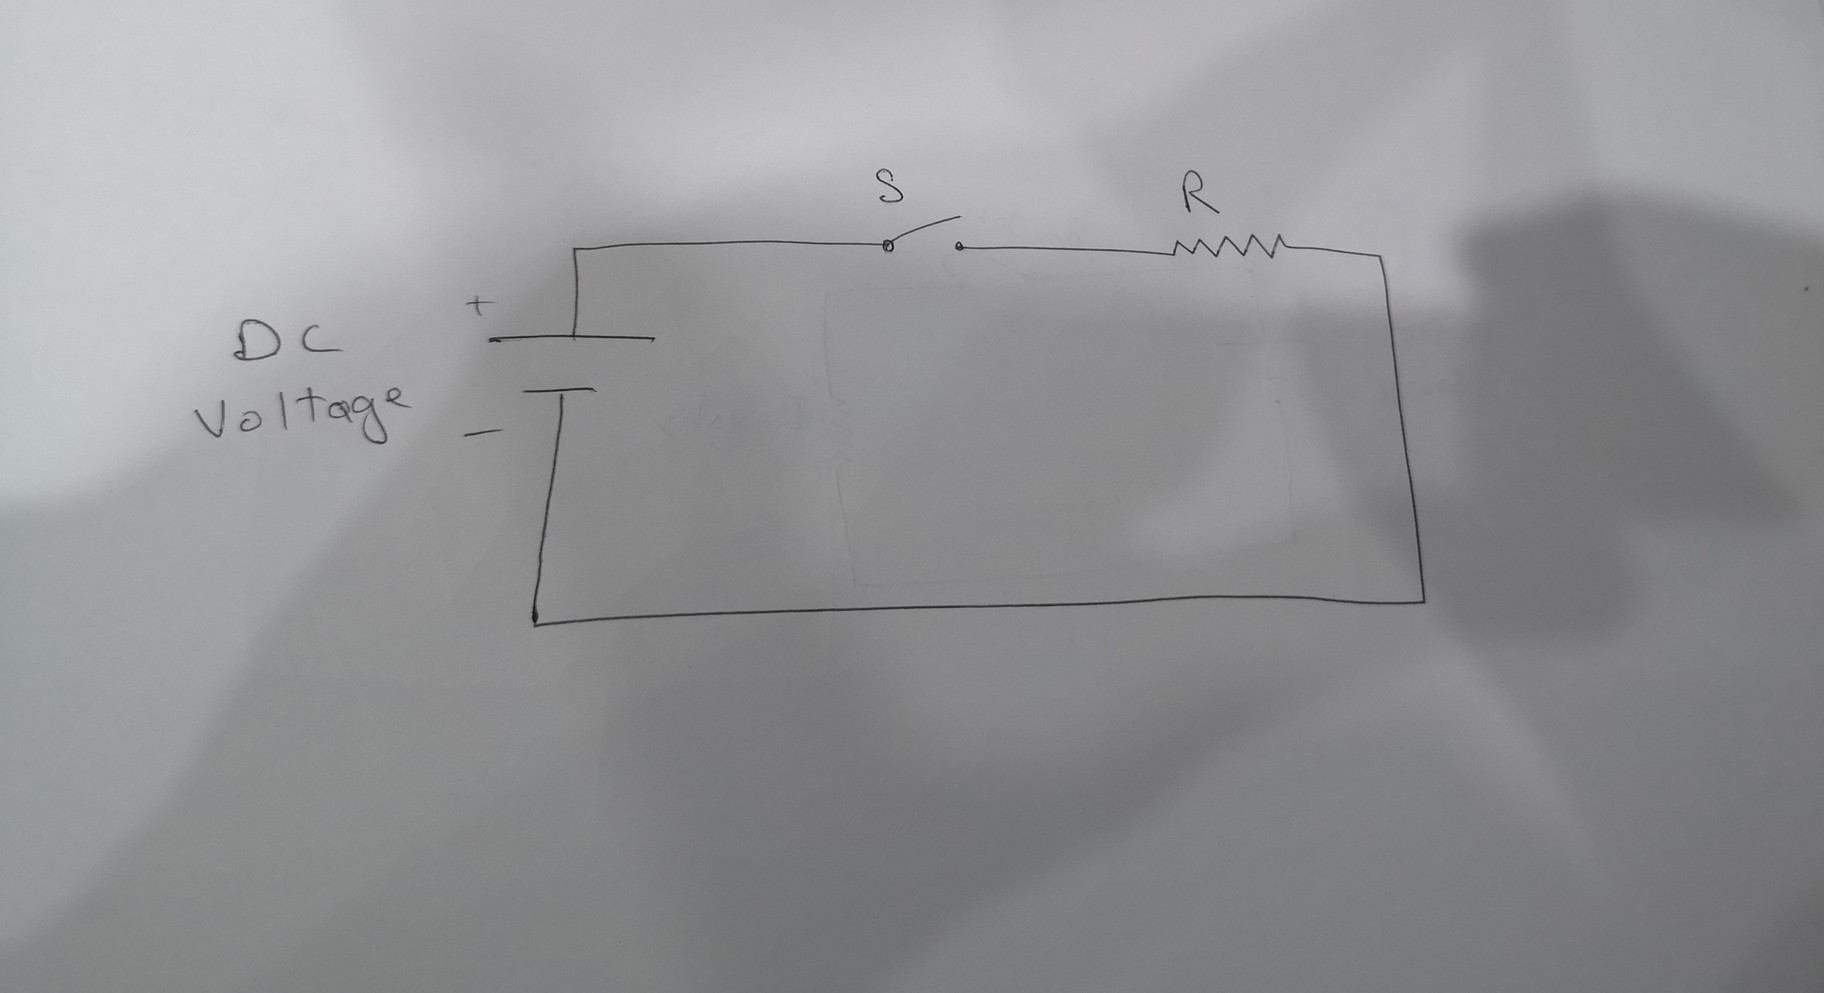junction: (1363, 243, 1392, 275), (564, 238, 586, 263), (524, 609, 545, 633), (1413, 591, 1433, 613)
resistor: (1163, 229, 1293, 265)
switch: (875, 205, 976, 259)
text: (189, 377, 417, 452), (224, 316, 356, 371), (1179, 165, 1224, 218), (872, 164, 911, 205)
voltage.dc: (482, 327, 675, 404)
